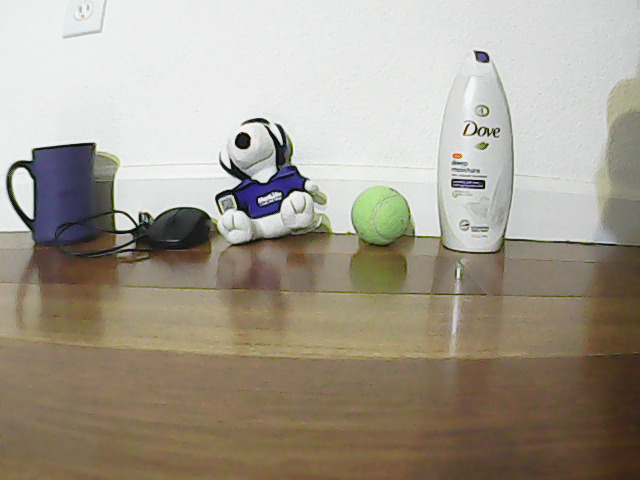ball: (354, 178, 412, 248)
mouse: (146, 201, 214, 251)
mug: (12, 126, 100, 248)
snoopy: (204, 126, 327, 244)
soap: (451, 35, 511, 265)
